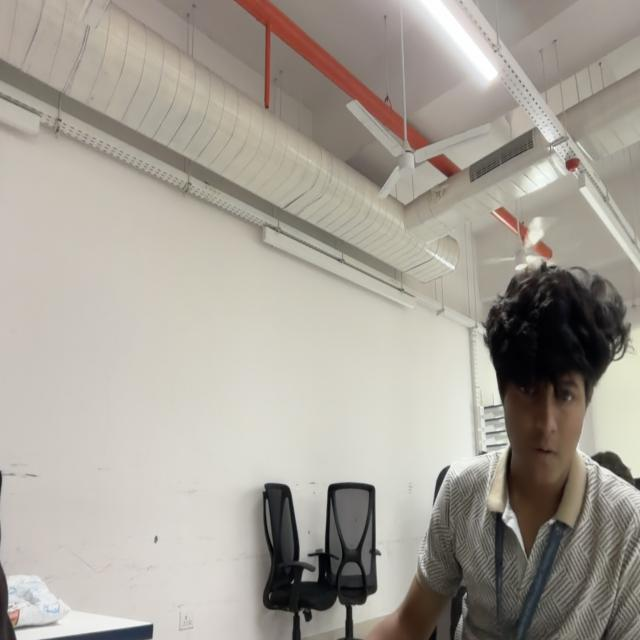kshitij: (482, 264, 630, 488)
